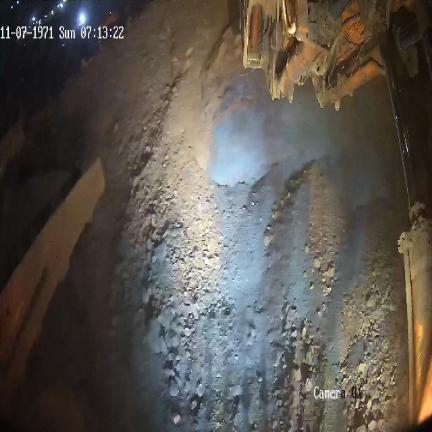pile: (63, 1, 397, 427), (0, 172, 75, 299)
